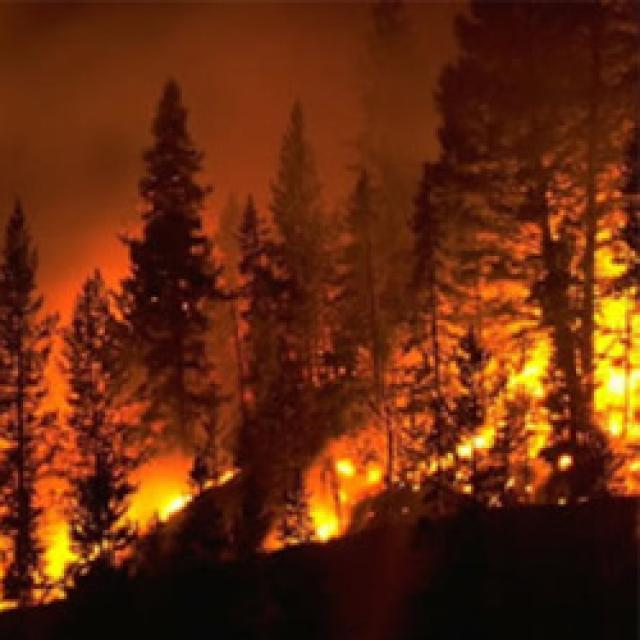Fire: (456, 176, 640, 504), (0, 402, 233, 622), (256, 410, 418, 558)
Smoke: (21, 28, 482, 383)
